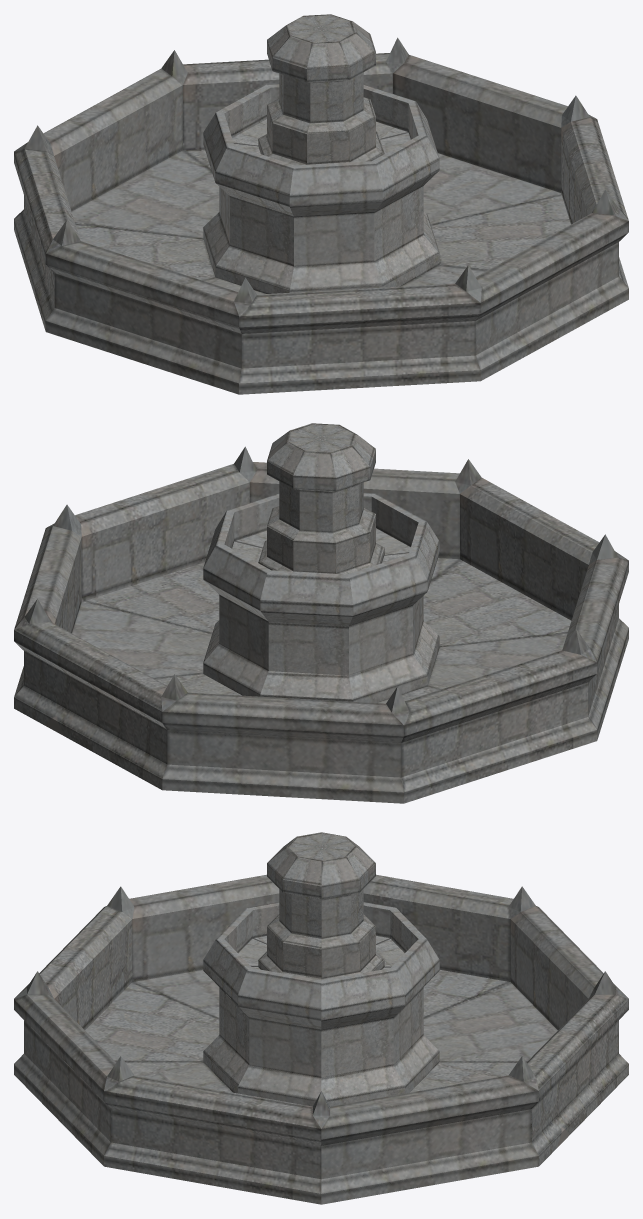
File: fountain.fbx
3 renders of one model, top to bottom at view 1: azimuth 30°, elevation 25°; view 2: azimuth 150°, elevation 25°; view 3: azimuth 270°, elevation 25°, orthographic. The views are drawn at different scales.
Visible parts, largest first — view 1: fountain; view 2: fountain; view 3: fountain.
Part boxes in pixels (x1,y1,x2,y2): fountain: (14, 14, 628, 394); fountain: (14, 423, 628, 803); fountain: (14, 832, 628, 1204).
Size of the model in its own units: 1000 by 408 by 1000.
